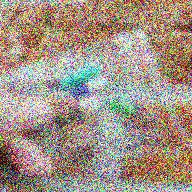러키펜정: (79, 94, 101, 111)
씨엠지세파클러캡슐: (70, 77, 108, 99)
에르도캡슐: (59, 65, 102, 88)
휴티렌정: (107, 99, 137, 115)
